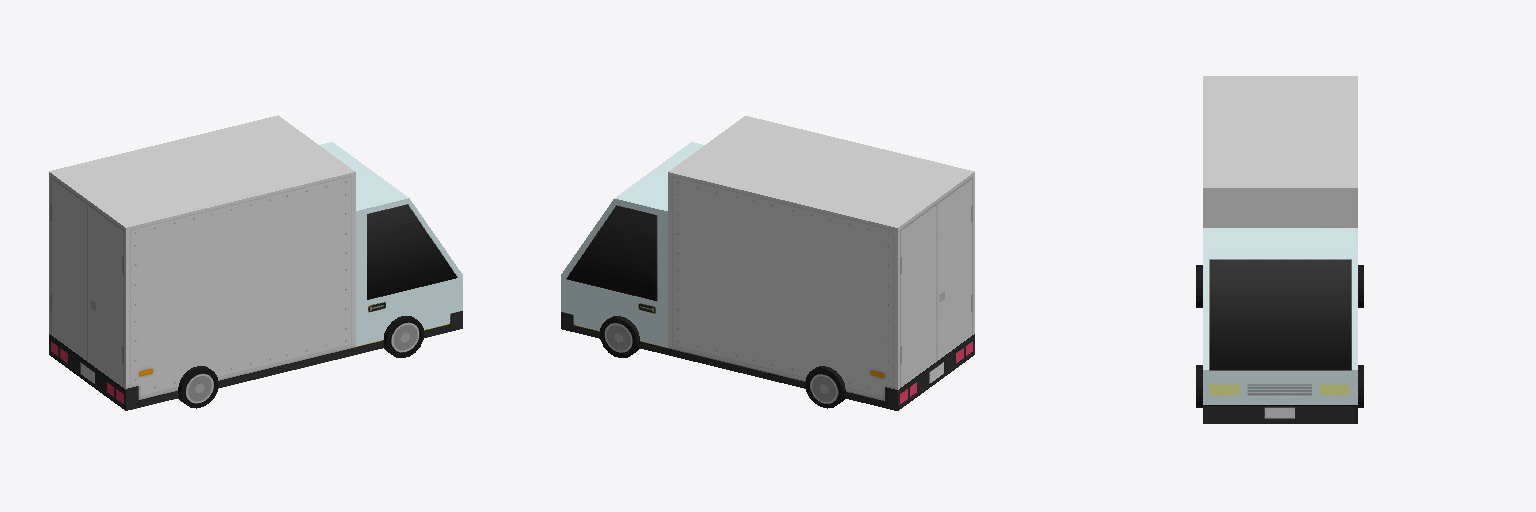
The picture shows the model from 3 angles: view 1: azimuth 30°, elevation 25°; view 2: azimuth 150°, elevation 25°; view 3: azimuth 270°, elevation 25°; orthographic projection.
Parts seen in each view (by area): view 1: Car_09.001; view 2: Car_09.001; view 3: Car_09.001.
Part boxes in pixels (left/top/right/bottom): Car_09.001: left=49, top=115, right=462, bottom=410; Car_09.001: left=561, top=116, right=974, bottom=410; Car_09.001: left=1196, top=76, right=1363, bottom=423.
Bounding box in the file's own units: 121 × 66.63 × 51.85.
Materials: 1 (1 with a texture image).